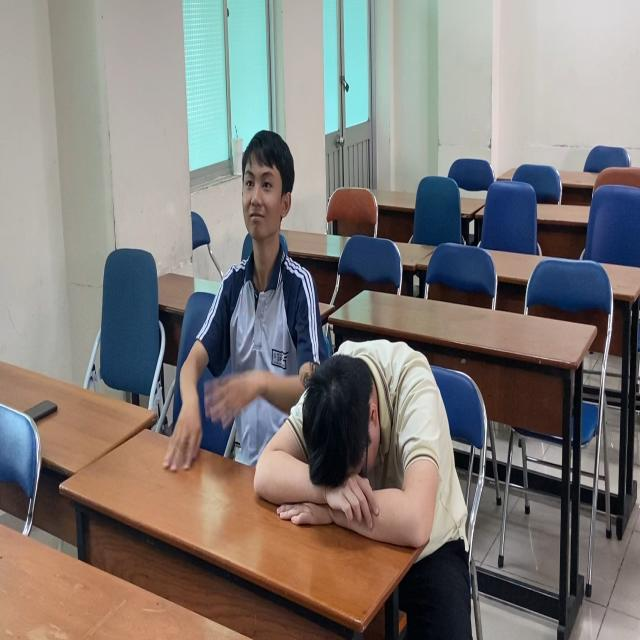sleep: (253, 324, 471, 553)
